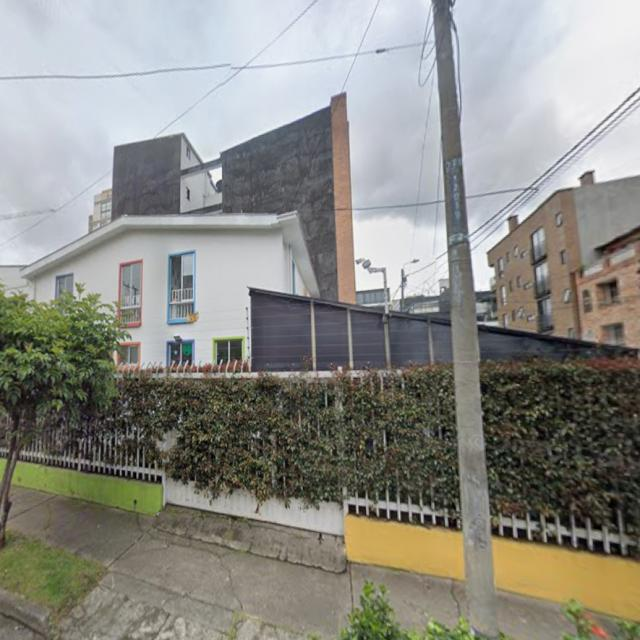fachada: (112, 94, 355, 302), (21, 213, 319, 364), (488, 172, 639, 338), (251, 289, 453, 371), (576, 226, 639, 347), (394, 279, 497, 324), (0, 265, 32, 296), (89, 189, 111, 232), (357, 289, 390, 309)
poste: (433, 0, 498, 637), (401, 268, 405, 312)
